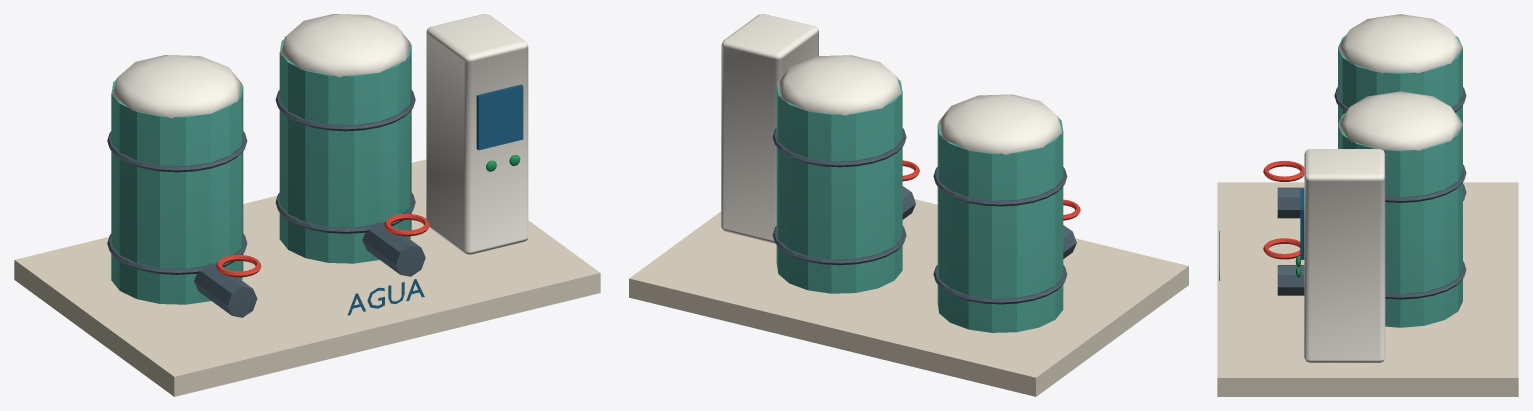
Rendered from water-treatment.glb.
3 renders of one model, left to right at view 1: azimuth 30°, elevation 25°; view 2: azimuth 150°, elevation 25°; view 3: azimuth 270°, elevation 25°, orthographic. The views are drawn at different scales.
Parts seen in each view (by area): view 1: treatment foundation, filter pressure vessel, filter domed lid, tank seam, control display, valve wheel; view 2: filter pressure vessel, treatment foundation, filter domed lid, tank seam; view 3: treatment foundation, filter domed lid, filter pressure vessel, tank seam, valve wheel, control display.
Part boxes in pixels (x1,y1,x2,y2): treatment foundation: (14,159,600,396); filter pressure vessel: (111,39,411,304); filter domed lid: (112,14,528,254); tank seam: (107,90,425,317); control display: (347,84,523,315); valve wheel: (216,214,429,277); filter pressure vessel: (776,79,1063,332); treatment foundation: (629,199,1188,396); filter domed lid: (721,14,1062,243); tank seam: (772,128,1076,304); treatment foundation: (1217,182,1518,396); filter domed lid: (1304,14,1462,362); filter pressure vessel: (1338,35,1462,327); tank seam: (1277,87,1466,299); valve wheel: (1263,161,1304,259); control display: (1219,189,1304,280).
Size of the model in its own units: 2 by 1.05 by 1.3.
